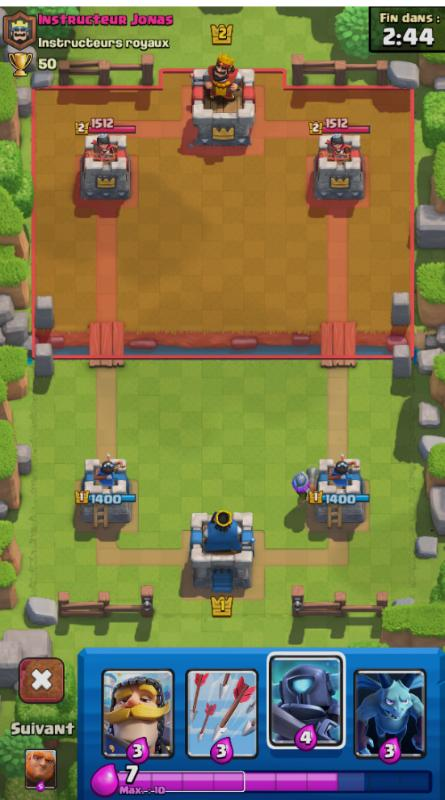mousquetaire: (287, 462, 323, 512)
